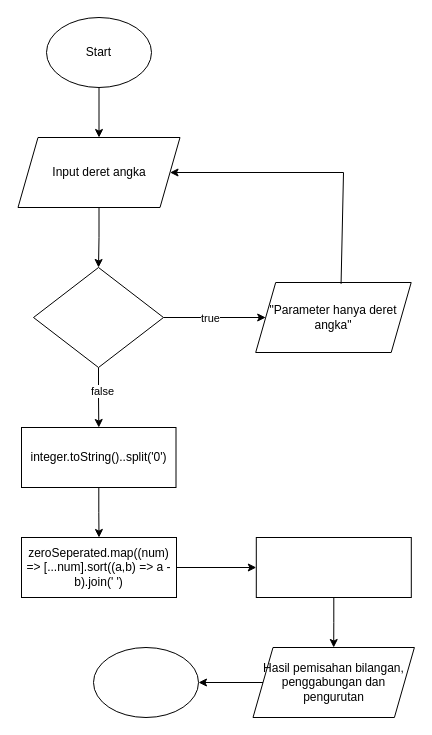
Image size: 432x735. Some labels were removed from this diagram. Here are the shapes that lost their labels. From the top down, the centre of each, then its label:
At point 98,317: "Jika bukan angka".
At point 333,567: "sortedNumbers.join(' ' )".
At point 145,682: "End".
